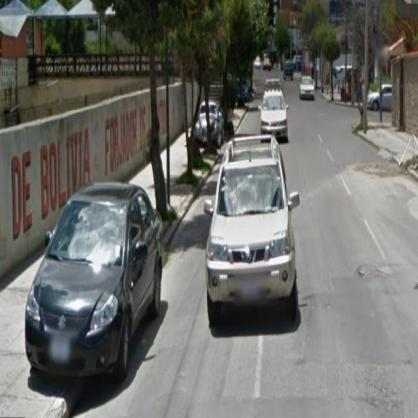car: (28, 183, 164, 381), (205, 140, 299, 319), (261, 81, 288, 142), (298, 75, 318, 100)
